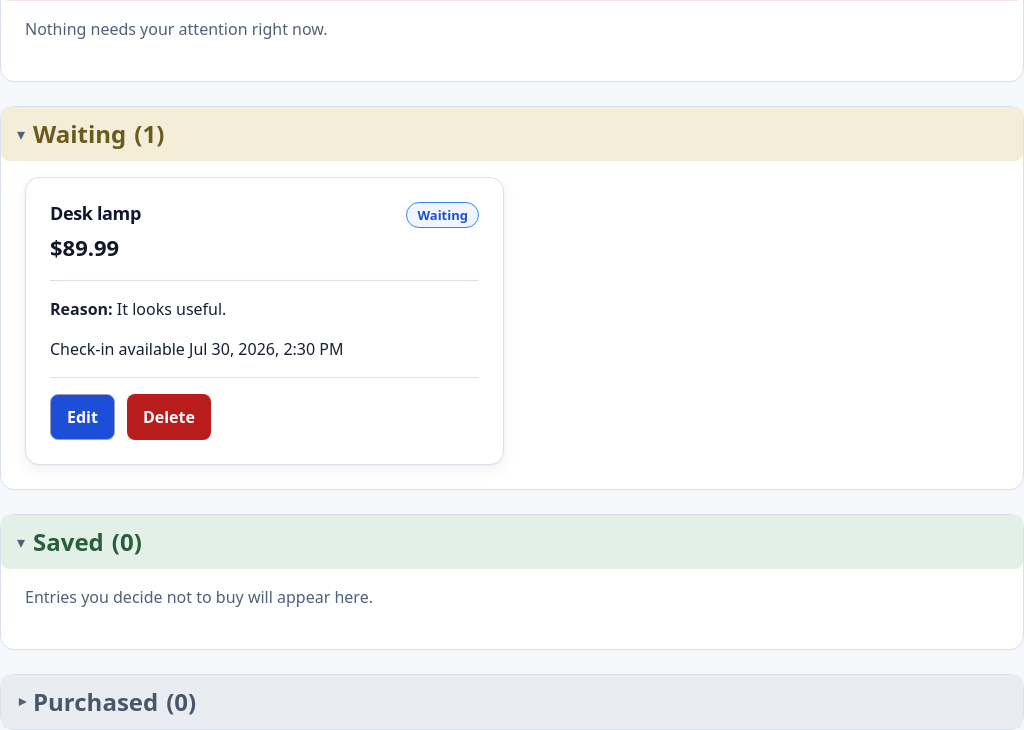
Test: DashboardPage › refreshes the dashboard when stale deletion receives a conflict
(page scrolled)
Click the button "Delete": (169, 417) top-left (127, 394), bottom-right (211, 440)
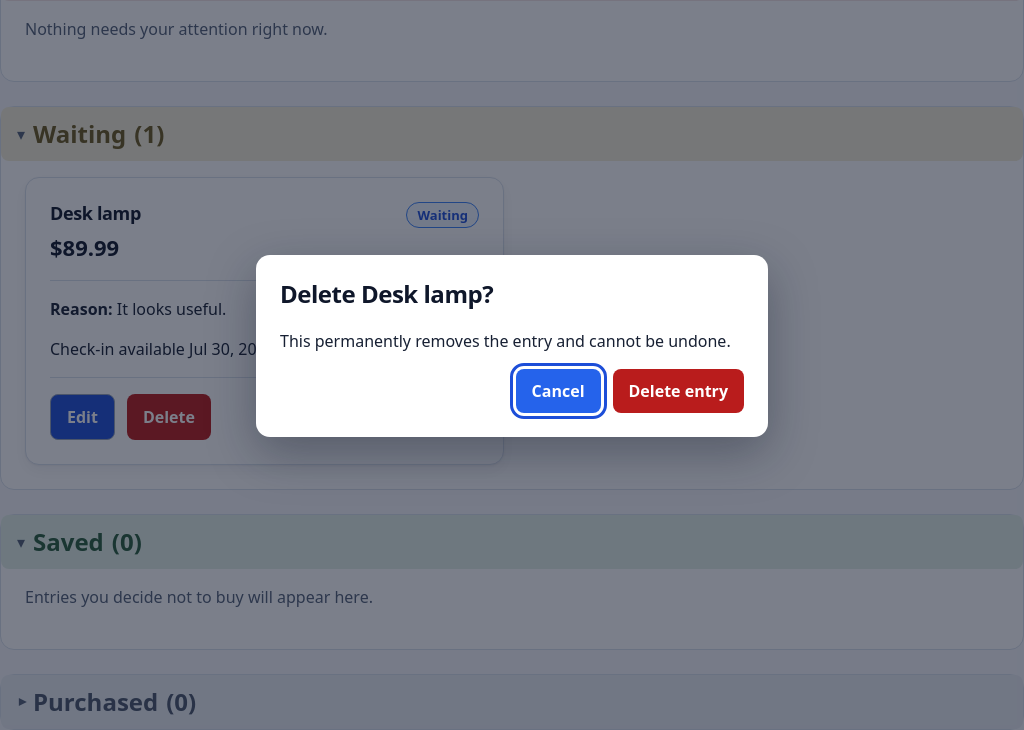
Click the button "Delete entry": (678, 391) top-left (612, 369), bottom-right (744, 413)
(page scrolled)
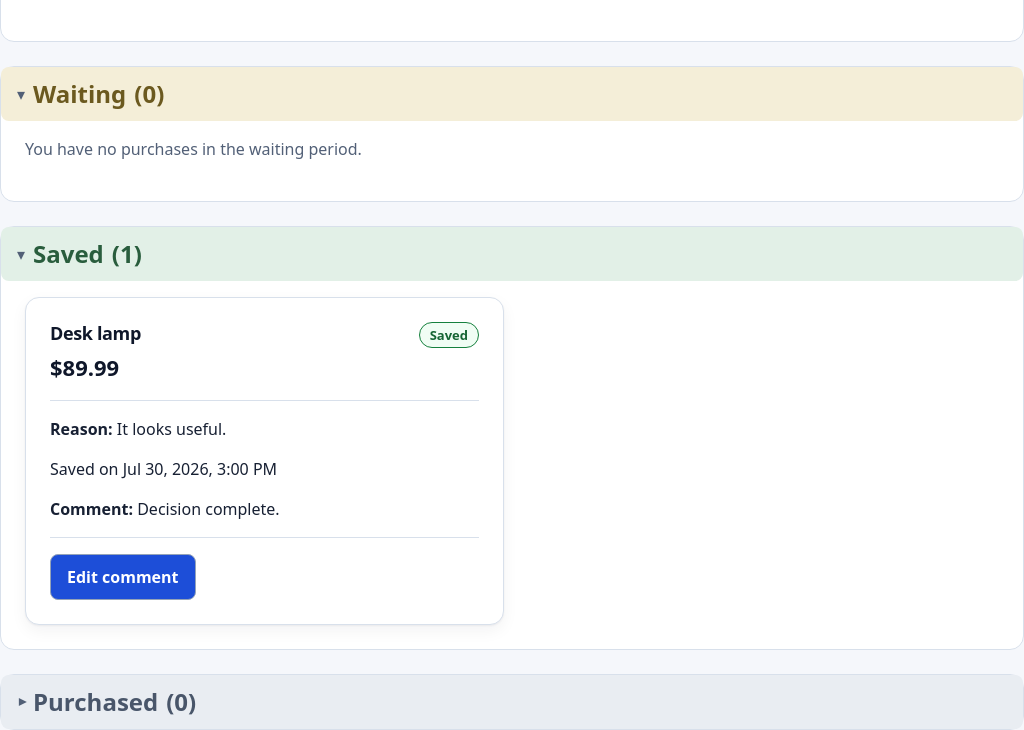
Expected: the text "Saved on" is shown, top-left (50, 458), bottom-right (277, 480)
Expected: the dialog is gone
